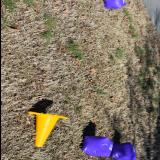cone: (27, 111, 66, 147)
cube: (80, 136, 112, 158), (109, 142, 135, 160), (102, 0, 125, 9)
